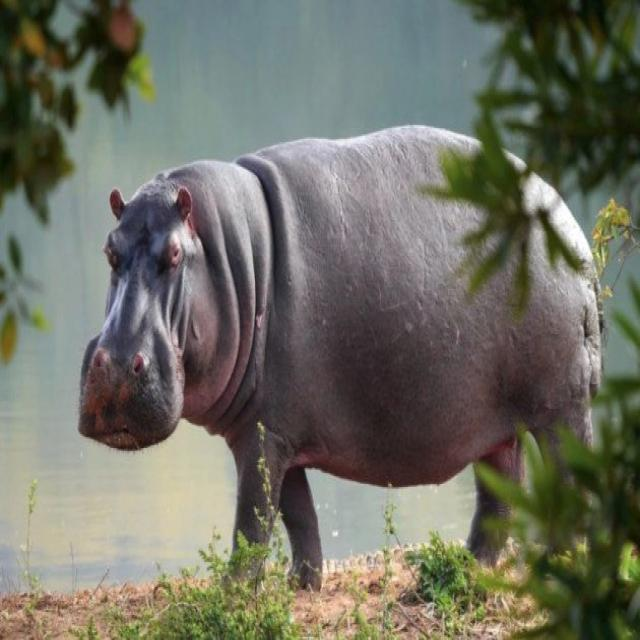hippopotamus: (78, 125, 602, 587)
